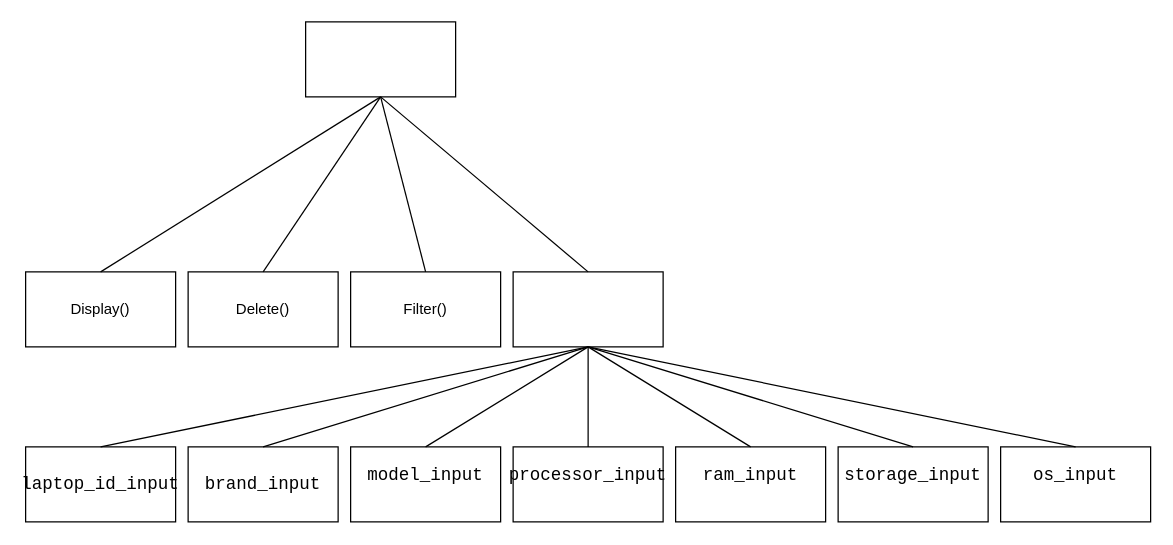
Image size: 1173x545. Some labels were removed from this diagram. The centre of each missing label's shape, as x and y in pixels:
Create(): pixel 587 309
Main(): pixel 380 59
